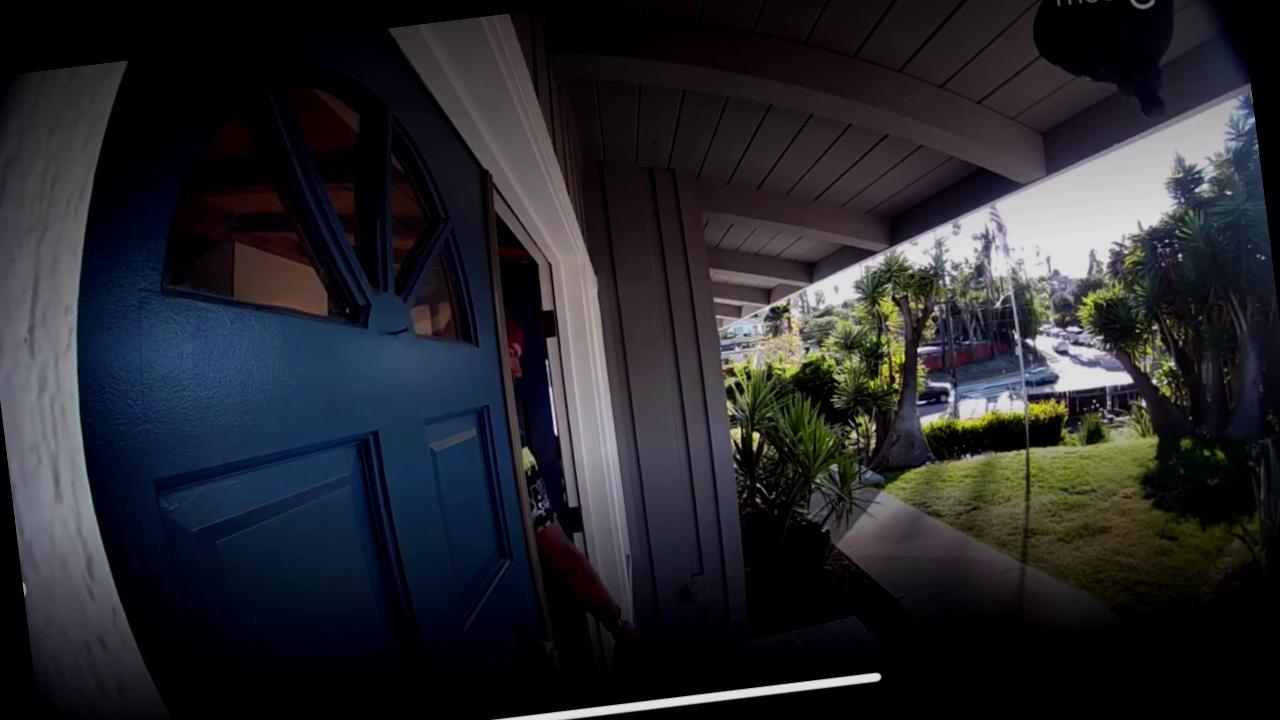suspicion: (435, 274, 692, 708)
